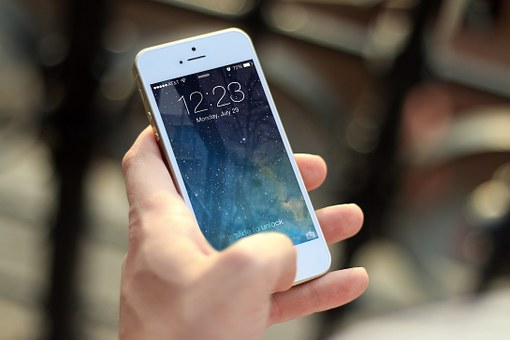mobile: (109, 22, 346, 310)
